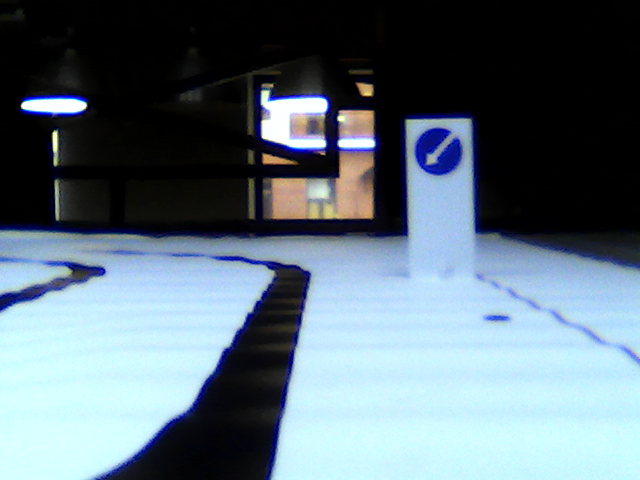prep: (413, 125, 464, 177)
